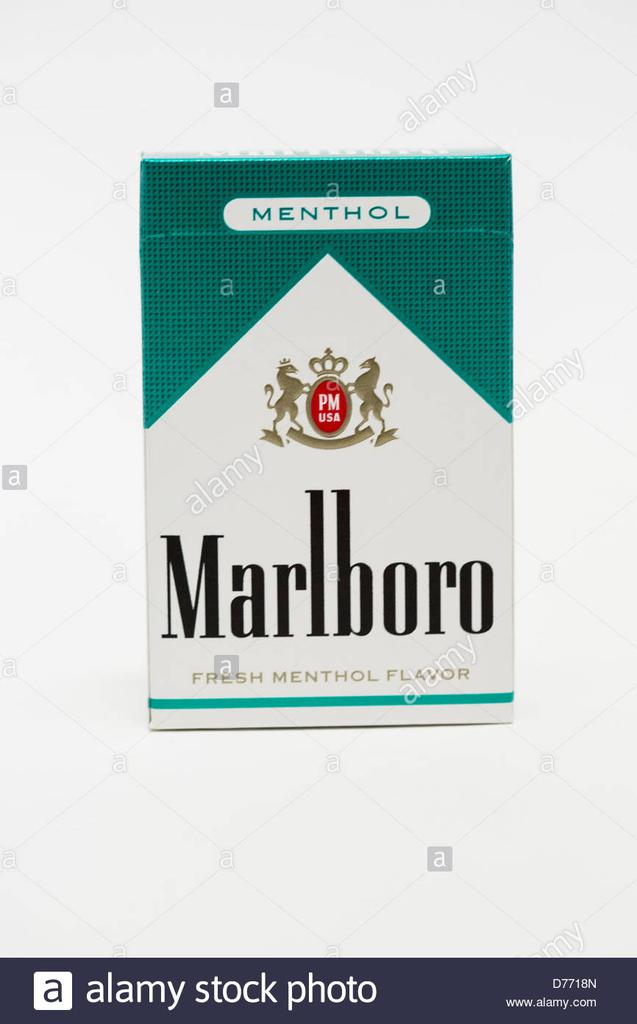marlboro_mentol: (148, 162, 511, 727)
